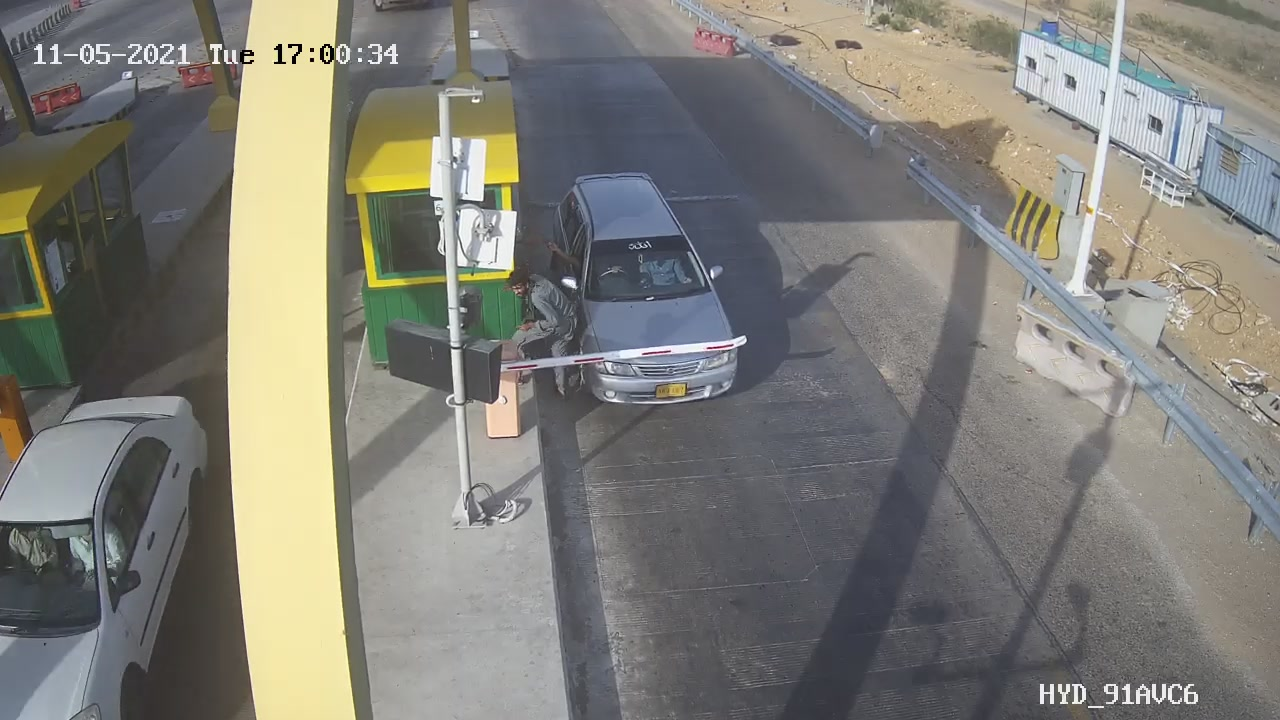F1: (534, 153, 761, 425)
